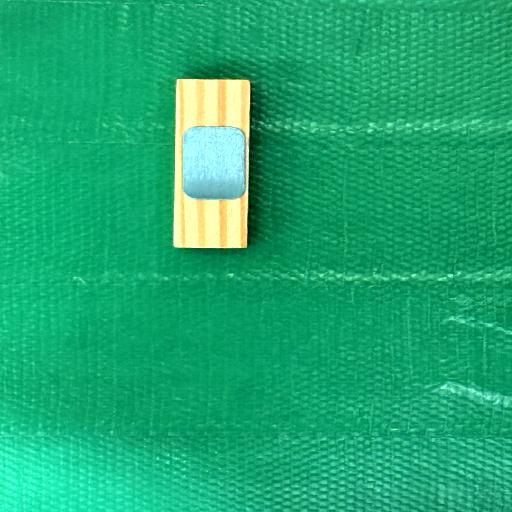objects: (173, 79, 250, 248)
